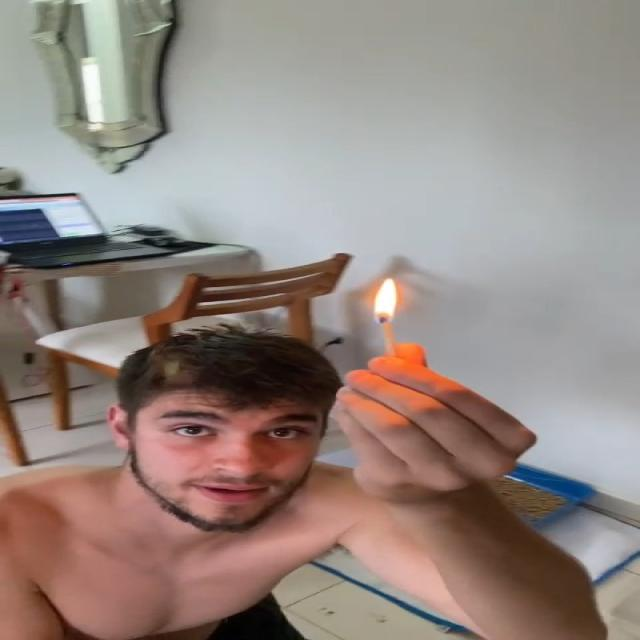fogo-ypXI: (373, 277, 397, 325)
